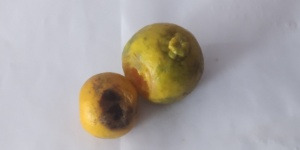BAD: (80, 70, 137, 144)
